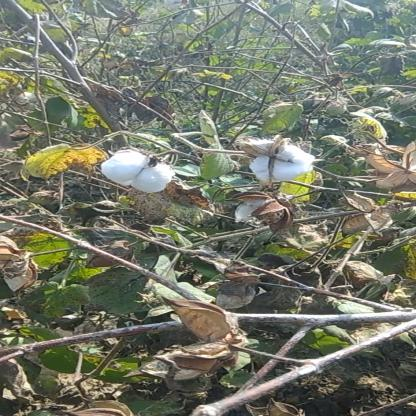cotton_ready: (76, 147, 182, 196), (236, 134, 319, 184)
